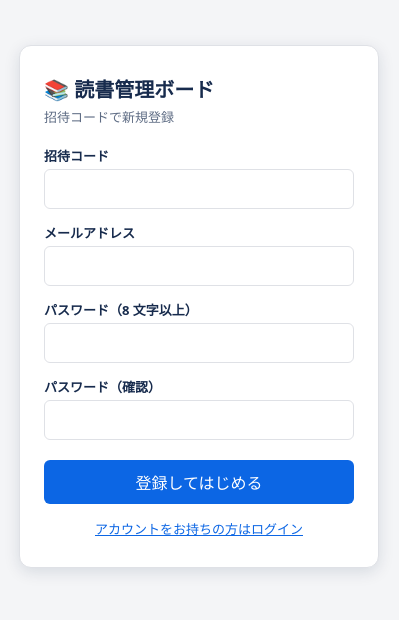
Test: RegisterView › API のエラーを表示する
This screenshot has width=399, height=620.
Type "used-code" into the field labelled "招待コード" at (199,188), box [44,168,354,208]
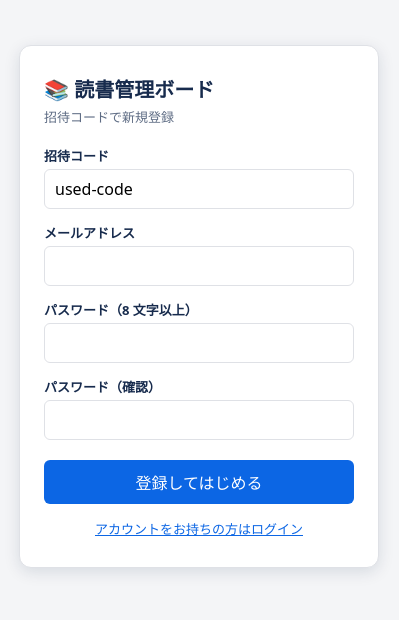
Type " new@example.com " into the field labelled "メールアドレス" at (199,266), box [44,246,354,286]
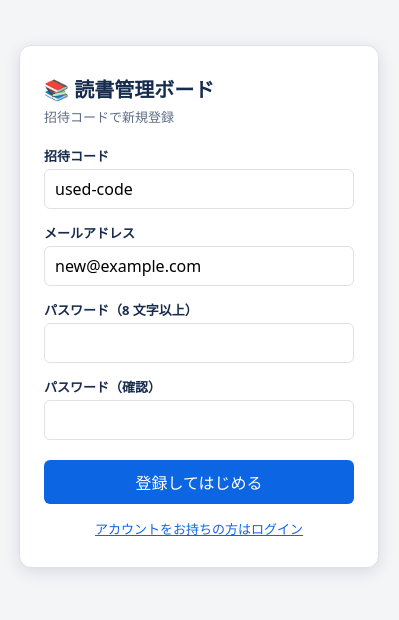
Type "new-password" into the password field labelled "パスワード（8 文字以上）" at (199,342), box [44,322,354,362]
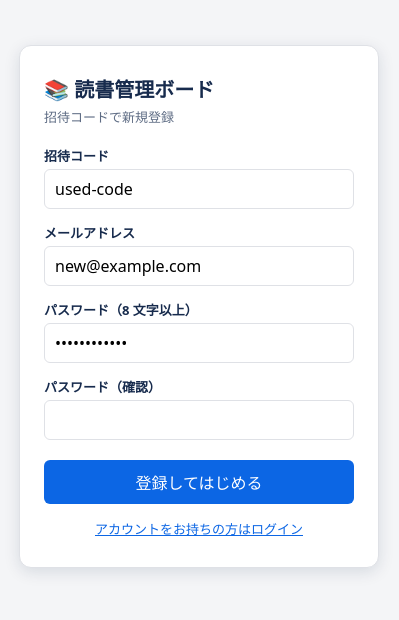
Type "new-password" into the password field labelled "パスワード（確認）" at (199,420), box [44,400,354,440]
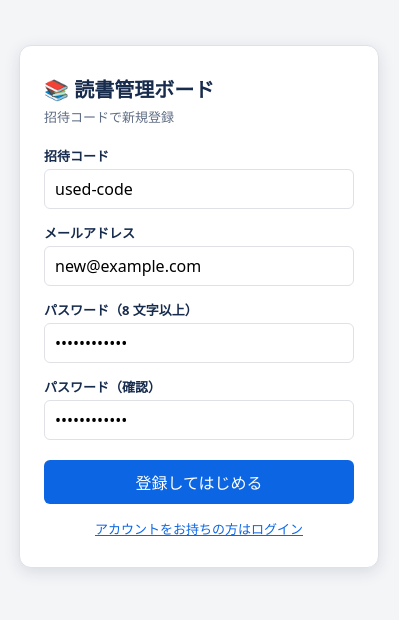
Submit the form
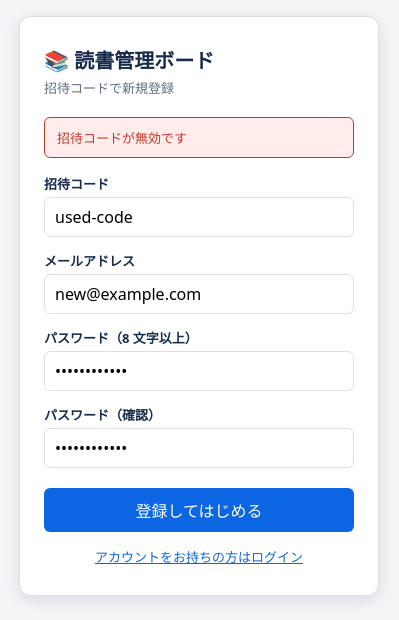
expect the message "招待コードが無効です" is shown: met, box [44,117,354,158]
